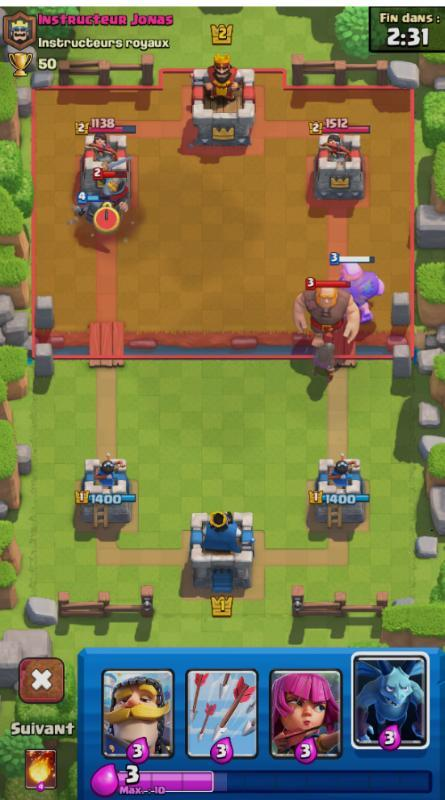enemy_giant: (289, 275, 362, 352)
enemy_knight: (89, 166, 136, 218)
player_giant: (317, 241, 391, 319)
player_mini_pekka: (67, 187, 104, 224)
